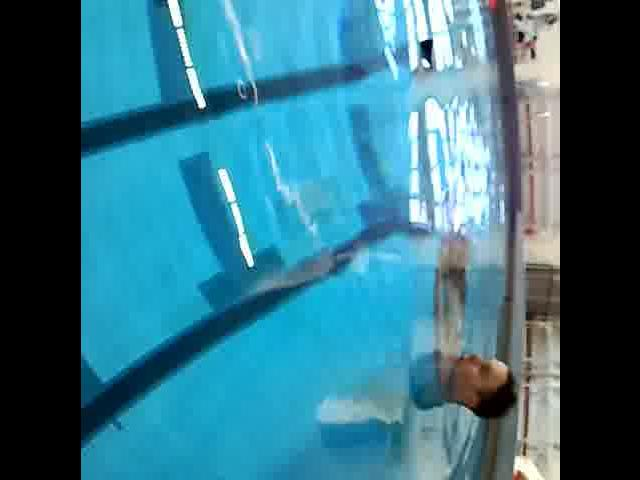CamMount: (416, 38, 440, 76)
